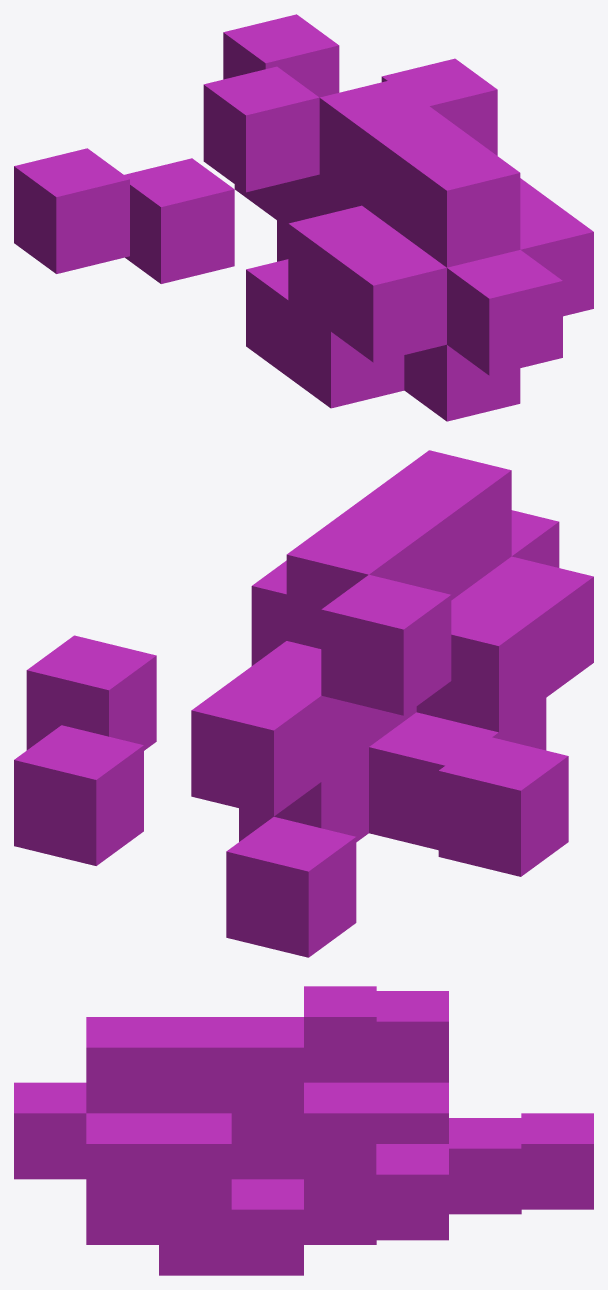
Rendered from bullet.obj.
3 renders of one model, top to bottom at view 1: azimuth 30°, elevation 25°; view 2: azimuth 150°, elevation 25°; view 3: azimuth 270°, elevation 25°, orthographic. The views are drawn at different scales.
Bounding box in the file's own units: 0.6 × 0.3 × 0.8.
1 material, 1 textured.
